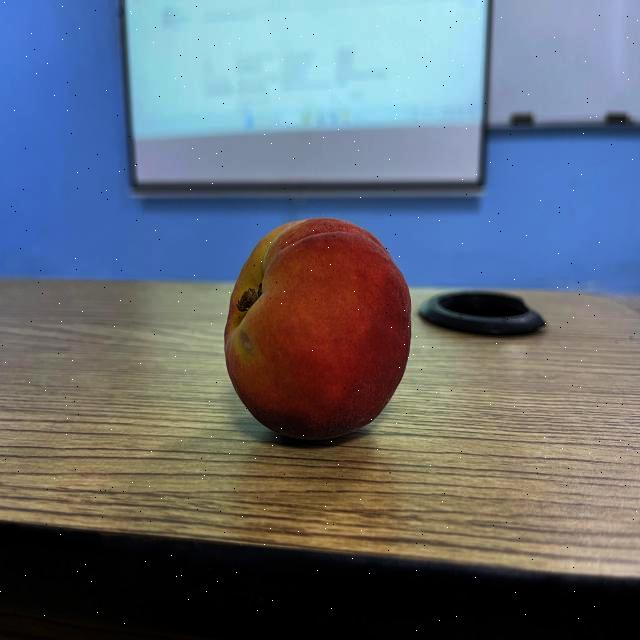Persik: (222, 214, 416, 446)
